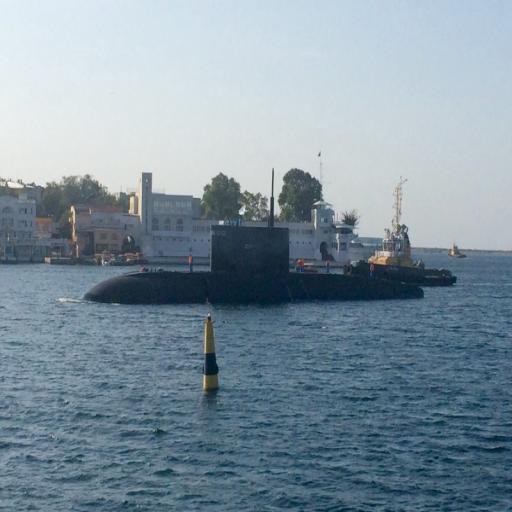submarine: (82, 228, 424, 302)
